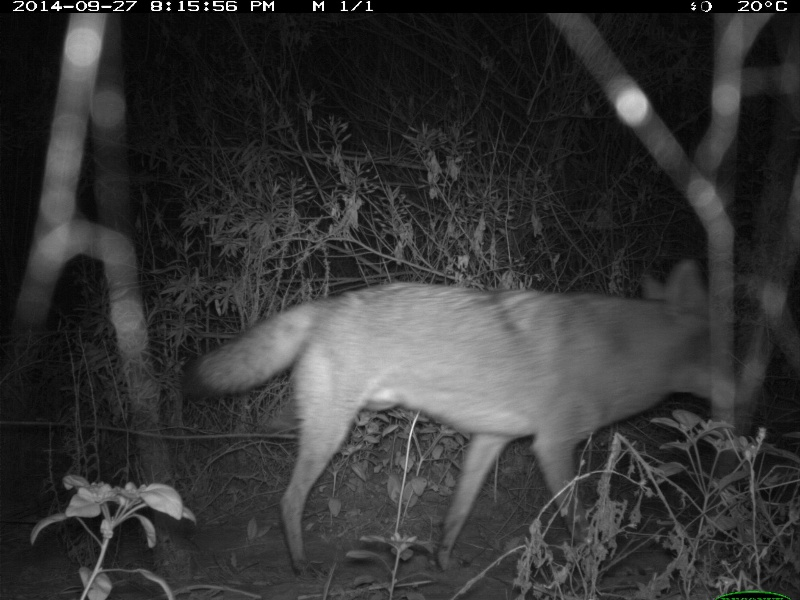coyote: (178, 253, 756, 578)
